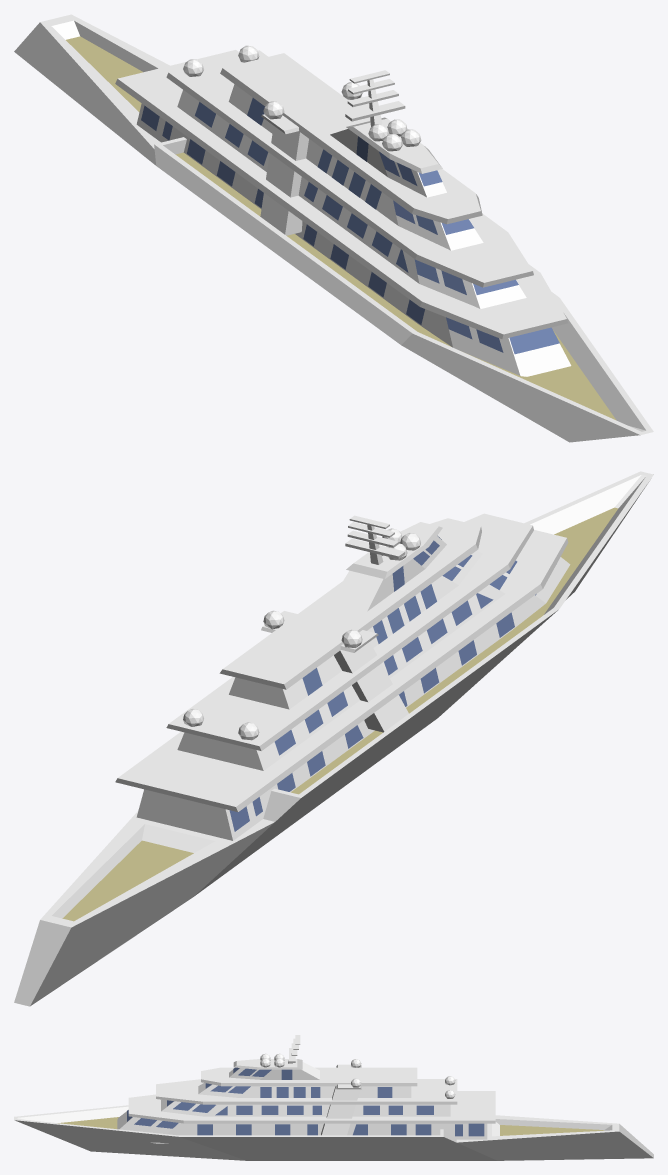
The model's file is transport_water_004.fbx.
The picture shows the model from 3 angles, top to bottom: view 1: azimuth 30°, elevation 25°; view 2: azimuth 150°, elevation 25°; view 3: azimuth 270°, elevation 25°; orthographic projection. The views are drawn at different scales.
Visible parts, largest first — view 1: transport_water_004; view 2: transport_water_004; view 3: transport_water_004.
Boxes of the visible parts, left/top/right/bottom form: transport_water_004: left=14, top=14, right=653, bottom=442; transport_water_004: left=14, top=471, right=653, bottom=1006; transport_water_004: left=14, top=1035, right=653, bottom=1160.
Size of the model in its own units: 412 by 611 by 3033.
